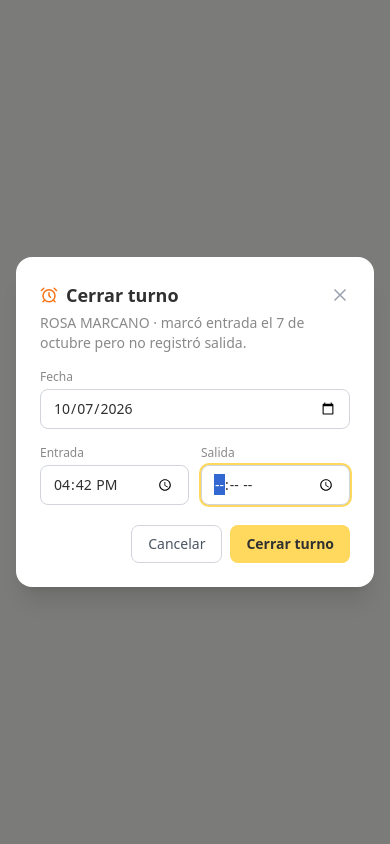
Test: ModalCerrarTurno › muestra el motivo que da el servidor, no un «intenta de nuevo» que no dice nada
Type "19:00" into the time field labelled "Salida" at (276, 485), box [201,465,350,505]
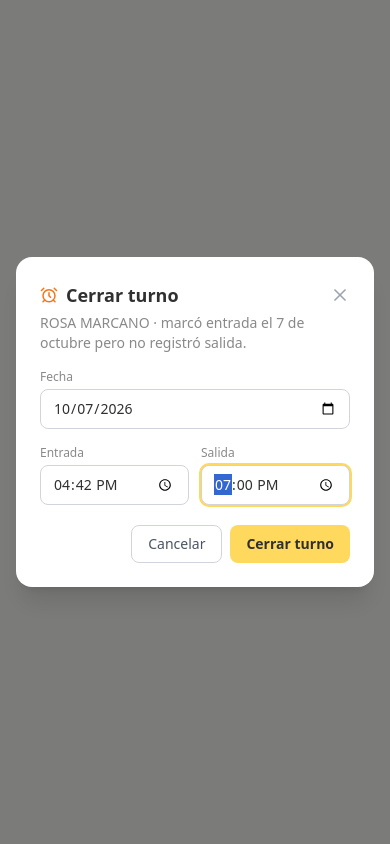
Click the button "Cerrar turno" at (290, 544), box [230,525,350,563]
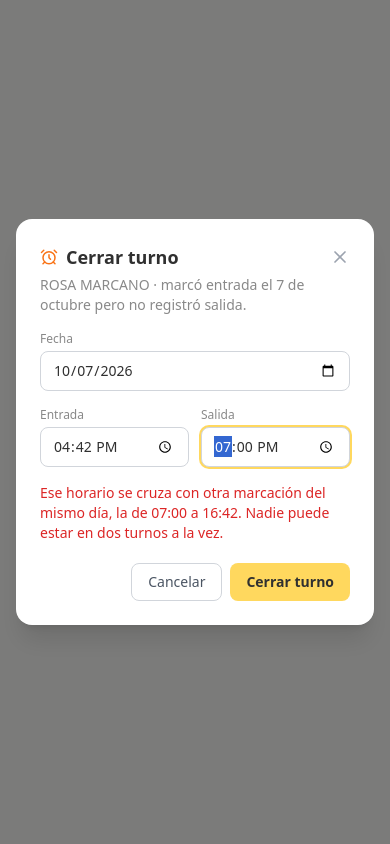
Now the text "Ese horario se cruza con otra marcación del mismo día, la de 07:00 a 16:42. Nadie puede estar en dos turnos a la vez." is shown, box [40,483,329,542]
